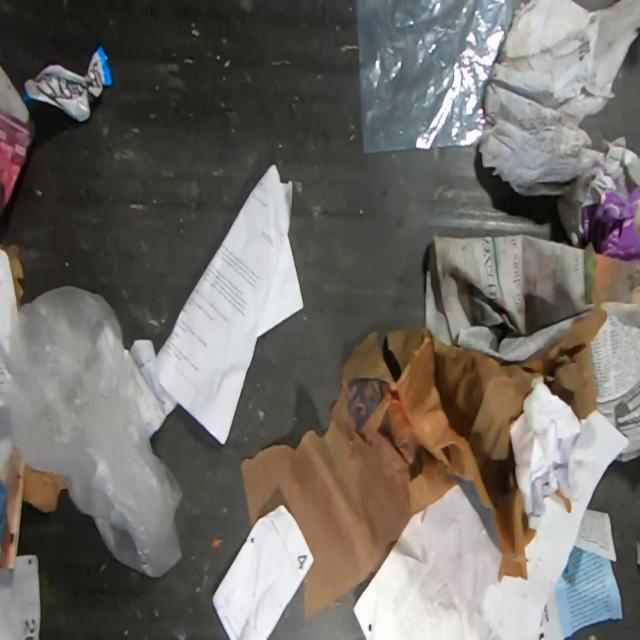cardboard: (558, 135, 640, 262), (0, 452, 68, 569)
soft_plastic: (0, 246, 183, 578), (356, 0, 518, 154), (22, 45, 112, 122)
